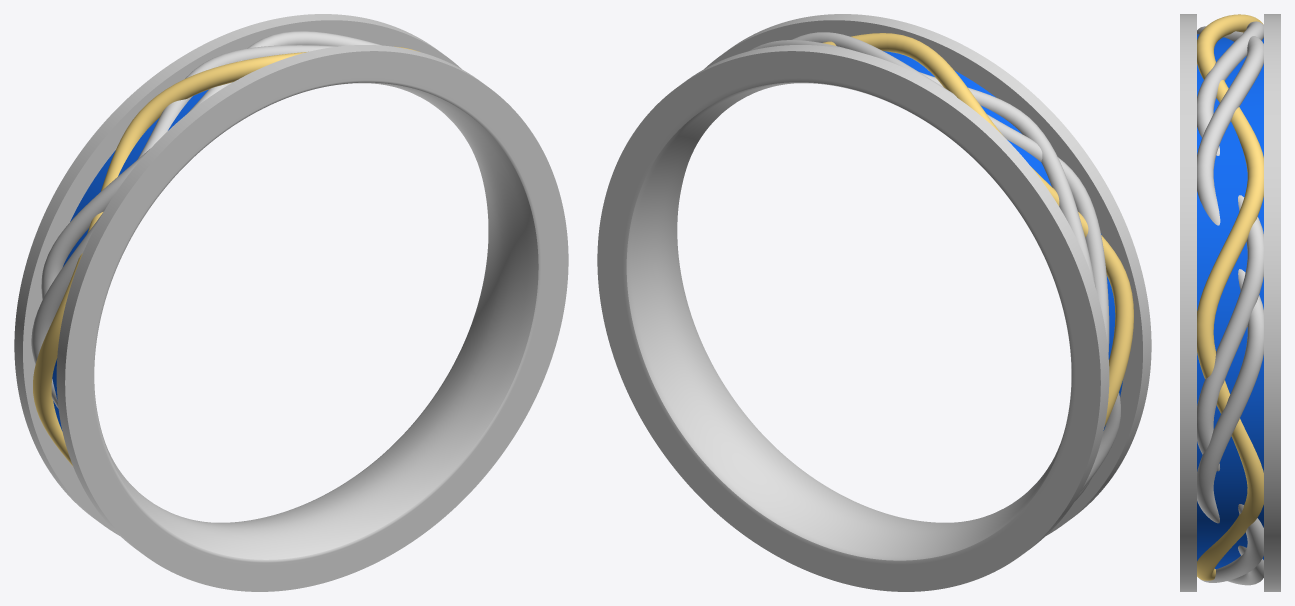
Rendered from RobertV5twist_blender.glb.
3 renders of one model, left to right at view 1: azimuth 30°, elevation 25°; view 2: azimuth 150°, elevation 25°; view 3: azimuth 270°, elevation 25°, orthographic.
Visible parts, largest first — view 1: V5 Robert PT for 3d model, V5 Robert YG for 3d model, V5 Robert color it; view 2: V5 Robert PT for 3d model, V5 Robert YG for 3d model, V5 Robert color it; view 3: V5 Robert PT for 3d model, V5 Robert color it, V5 Robert YG for 3d model.
Boxes of the visible parts, x1=… form: V5 Robert PT for 3d model: x1=14, y1=14, x2=568, y2=591; V5 Robert YG for 3d model: x1=33, y1=46, x2=419, y2=465; V5 Robert color it: x1=52, y1=89, x2=208, y2=430; V5 Robert PT for 3d model: x1=597, y1=14, x2=1151, y2=591; V5 Robert YG for 3d model: x1=822, y1=33, x2=1133, y2=426; V5 Robert color it: x1=883, y1=51, x2=1122, y2=430; V5 Robert PT for 3d model: x1=1180, y1=14, x2=1280, y2=591; V5 Robert color it: x1=1197, y1=34, x2=1263, y2=569; V5 Robert YG for 3d model: x1=1197, y1=14, x2=1263, y2=580.
Bounding box in the file's own units: 24.69 × 24.65 × 4.3.
